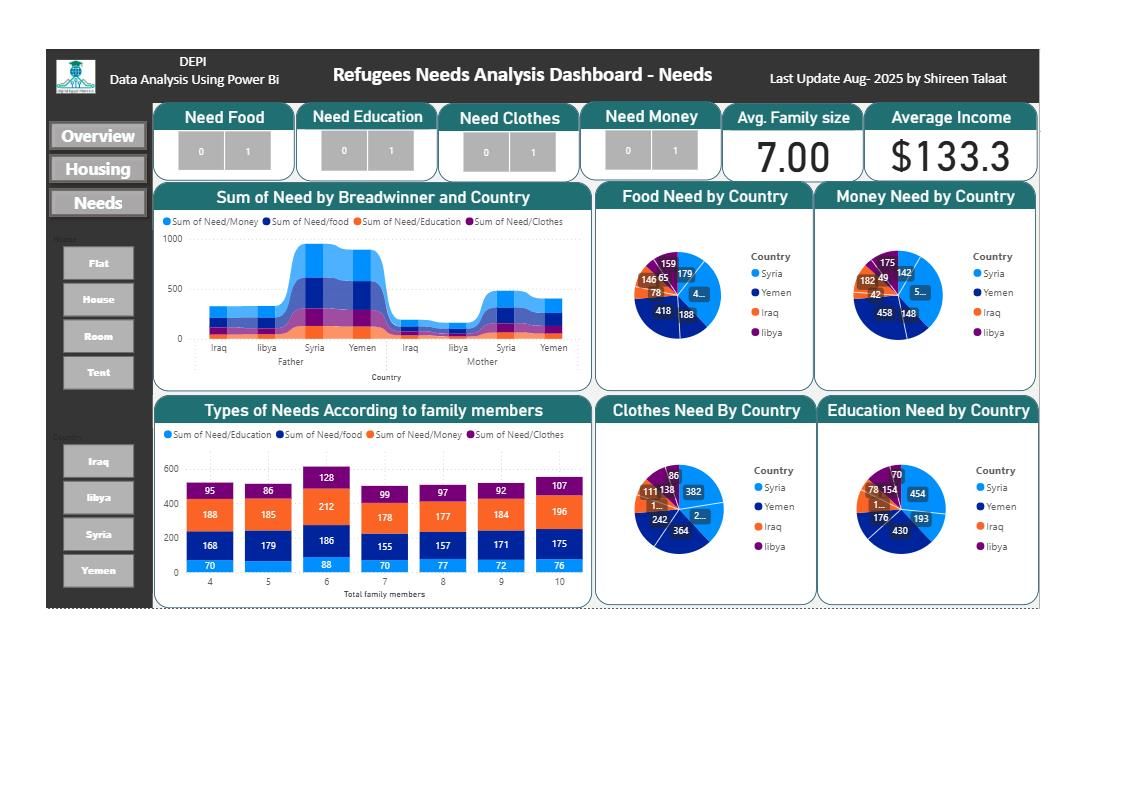

The page's visual inventory and layout, read from the dashboard file:
{"tool":"powerbi","page":{"name":"Needs","canvas":[1280,720],"ordinal":2},"visuals":[{"type":"shape","box":[0,70.7,141.4,649],"z":0},{"type":"shape","box":[0,0,1280,70.7],"z":1000},{"type":"actionButton","box":[0,86.1,141.4,52.7],"z":2000},{"type":"image","box":[10,10,64.3,52.7],"z":3000},{"type":"textbox","box":[64.3,0,260.9,61.7],"z":4000},{"type":"actionButton","box":[0,128.5,141.4,52.7],"z":5000},{"type":"actionButton","box":[0,172.2,141.4,52.7],"z":6000},{"type":"textbox","box":[343.1,12.9,546.2,47.6],"z":7000},{"type":"textbox","box":[929.2,21.8,332.9,34.7],"z":8000},{"type":"card","title":"Average Income","fields":{"Values":["Avg(Needs.Income)"]},"box":[1055.1,69.4,223,101.5],"z":9000},{"type":"card","title":"Avg. Family size","fields":{"Values":["Avg(Needs.Total family members)"]},"box":[872.6,70.7,182.5,101.5],"z":10000},{"type":"slicer","fields":{"Values":["Needs.House"]},"box":[0,233.9,141.4,212],"z":11000},{"type":"slicer","fields":{"Values":["Needs.Country"]},"box":[0,488.4,141.4,212],"z":12000},{"type":"columnChart","title":"Types of Needs According to family members","fields":{"Category":["Needs.Total family members"],"Y":["Sum(Needs.Need/Education)","Sum(Needs.Need/food)","Sum(Needs.Need/Money)","Sum(Needs.Need/Clothes)"]},"box":[142.7,445.9,562.9,273.7],"z":13000},{"type":"pieChart","title":"Clothes  Need By Country","fields":{"Category":["Needs.Country"],"Series":["Needs.Need/Clothes"],"Y":["CountNonNull(Needs.Need/Clothes)"]},"box":[709.4,445.9,285.3,270],"z":14000},{"type":"pieChart","title":"Education Need by Country","fields":{"Category":["Needs.Country"],"Series":["Needs.Need/Education"],"Y":["CountNonNull(Needs.Need/Education)"]},"box":[994.7,445.9,285.3,269.9],"z":15000},{"type":"pieChart","title":"Food Need by Country","fields":{"Category":["Needs.Country"],"Series":["Needs.Need/food"],"Y":["CountNonNull(Needs.Need/food)"]},"box":[709.4,170.9,281.4,269.9],"z":16000},{"type":"pieChart","title":"Money Need by Country","fields":{"Category":["Needs.Country"],"Series":["Needs.Need/Money"],"Y":["CountNonNull(Needs.Need/Money)"]},"box":[990.8,170.9,285.3,269.9],"z":17000},{"type":"slicer","title":"Need Food","fields":{"Values":["Needs.Need/food"]},"box":[141.4,69.4,182,101],"z":18000},{"type":"slicer","title":"Need Education","fields":{"Values":["Needs.Need/Education"]},"box":[325.1,69.4,182.5,101.5],"z":19000},{"type":"slicer","title":"Need Clothes","fields":{"Values":["Needs.Need/Clothes"]},"box":[507.6,70.7,182.5,101.5],"z":20000},{"type":"slicer","title":"Need Money","fields":{"Values":["Needs.Need/Money"]},"box":[690.1,68.1,182.5,101.5],"z":21000},{"type":"ribbonChart","title":"Sum of Need by Breadwinner and Country","fields":{"Category":["Needs.Breadwinner","Needs.Country"],"Y":["Sum(Needs.Need/Money)","Sum(Needs.Need/food)","Sum(Needs.Need/Education)","Sum(Needs.Need/Clothes)"]},"box":[141.4,172.2,564.2,268.6],"z":22000}]}

Visuals, with their boxes on the page's 1280x720 design canvas (x1, y1, x2, y2). These are canvas units, not pixel positions in the 1122x793 screenshot, which may show the page scaled, cropped or inside an application window:
shape: box=[0, 71, 141, 720]
shape: box=[0, 0, 1280, 71]
actionButton: box=[0, 86, 141, 139]
image: box=[10, 10, 74, 63]
textbox: box=[64, 0, 325, 62]
actionButton: box=[0, 128, 141, 181]
actionButton: box=[0, 172, 141, 225]
textbox: box=[343, 13, 889, 60]
textbox: box=[929, 22, 1262, 56]
"Average Income" card: box=[1055, 69, 1278, 171]
"Avg. Family size" card: box=[873, 71, 1055, 172]
slicer - Needs.House: box=[0, 234, 141, 446]
slicer - Needs.Country: box=[0, 488, 141, 700]
"Types of Needs According to family members" columnChart: box=[143, 446, 706, 720]
"Clothes  Need By Country" pieChart: box=[709, 446, 995, 716]
"Education Need by Country" pieChart: box=[995, 446, 1280, 716]
"Food Need by Country" pieChart: box=[709, 171, 991, 441]
"Money Need by Country" pieChart: box=[991, 171, 1276, 441]
"Need Food" slicer: box=[141, 69, 323, 170]
"Need Education" slicer: box=[325, 69, 508, 171]
"Need Clothes" slicer: box=[508, 71, 690, 172]
"Need Money" slicer: box=[690, 68, 873, 170]
"Sum of Need by Breadwinner and Country" ribbonChart: box=[141, 172, 706, 441]
